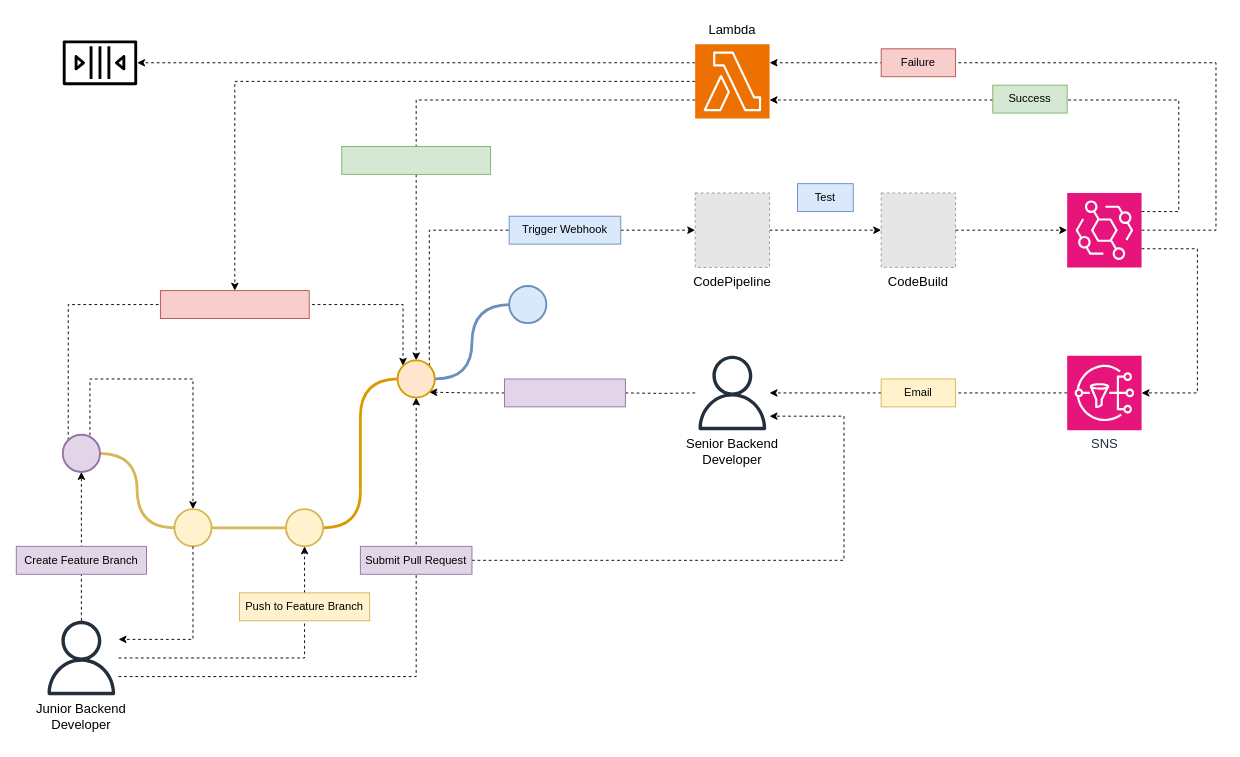
Image size: 1240x757. Some labels were removed from this diagram. Grey dashed boxes stand in for pictures. The shapes that lost their labels are listed below. From the top down, each one's centre as x and y in pixels, then its label:
At point 99,62: "Dead Letter Queue".
At point 416,160: "Push to Staging Branch".
At point 1104,229: "EventBridge".
At point 234,304: "Rollback Testing Branch".
At point 564,392: "Approve Pull Request".
